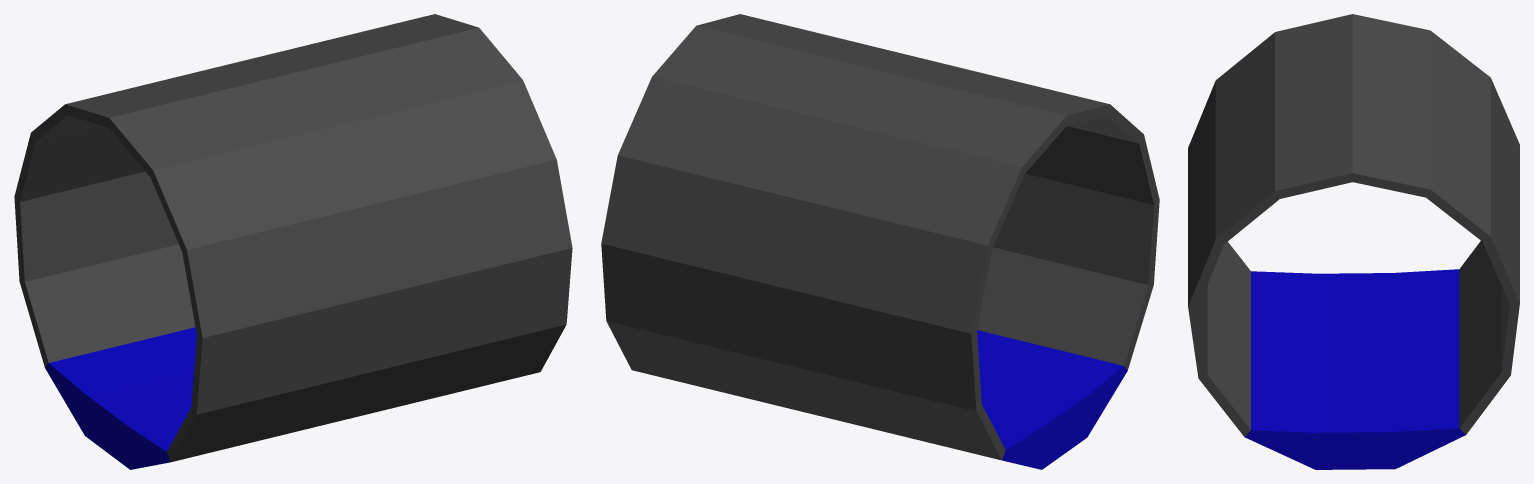
Rendered from la tunnel1.6.fbx.
The picture shows the model from 3 angles, left to right: view 1: azimuth 30°, elevation 25°; view 2: azimuth 150°, elevation 25°; view 3: azimuth 270°, elevation 25°; orthographic projection. The views are drawn at different scales.
Parts seen in each view (by area): view 1: Cylinder; view 2: Cylinder; view 3: Cylinder.
Boxes of the visible parts, bbox=[...] form: Cylinder: bbox=[14, 14, 572, 469]; Cylinder: bbox=[601, 14, 1159, 469]; Cylinder: bbox=[1188, 14, 1519, 469].
Bounding box in the file's own units: 800 × 696 × 705.
